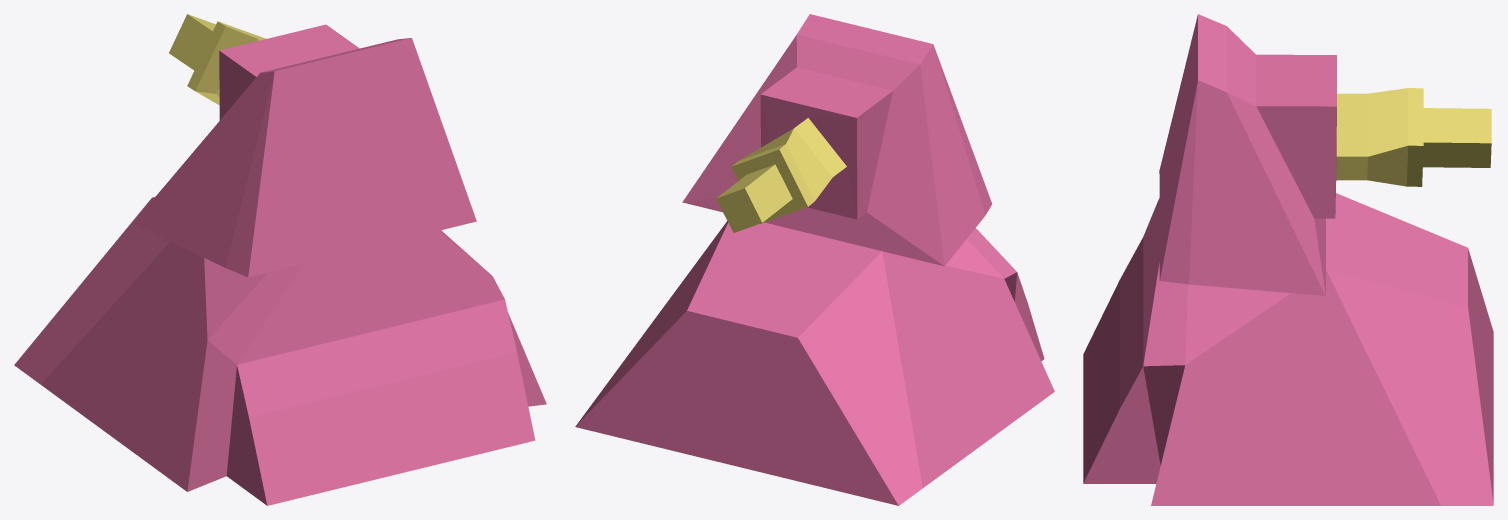
The model's file is Unit_LongRange.fbx.
The picture shows the model from 3 angles, left to right: view 1: azimuth 30°, elevation 25°; view 2: azimuth 150°, elevation 25°; view 3: azimuth 270°, elevation 25°; orthographic projection. The views are drawn at different scales.
Parts seen in each view (by area): view 1: Long Range (×2); view 2: Long Range (×2); view 3: Long Range (×2).
Boxes of the visible parts, x1,y1,x2,y2 form: Long Range (×2): (14, 14, 546, 505); Long Range (×2): (575, 14, 1054, 505); Long Range (×2): (1083, 14, 1493, 505).
Bounding box in the file's own units: 4000 × 4000 × 4000.
